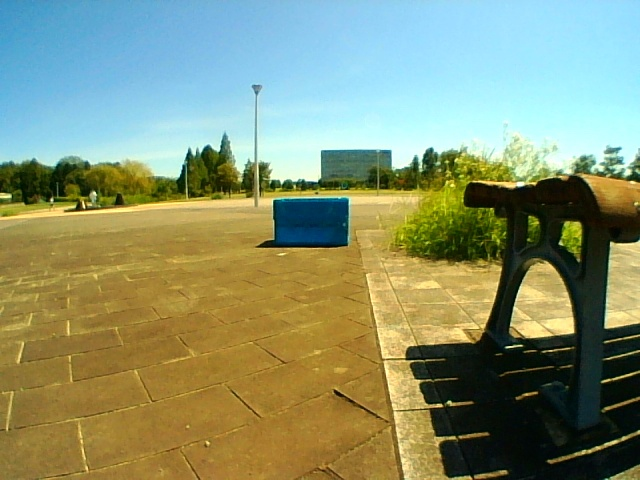blue_box: (275, 198, 347, 246)
